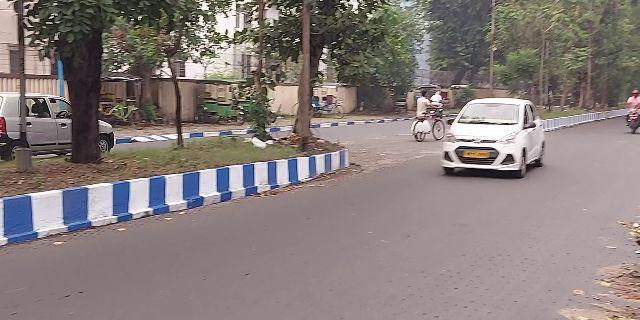Car: (442, 99, 546, 182)
Cycle: (407, 90, 443, 141)
Motorbike: (625, 88, 638, 138)
